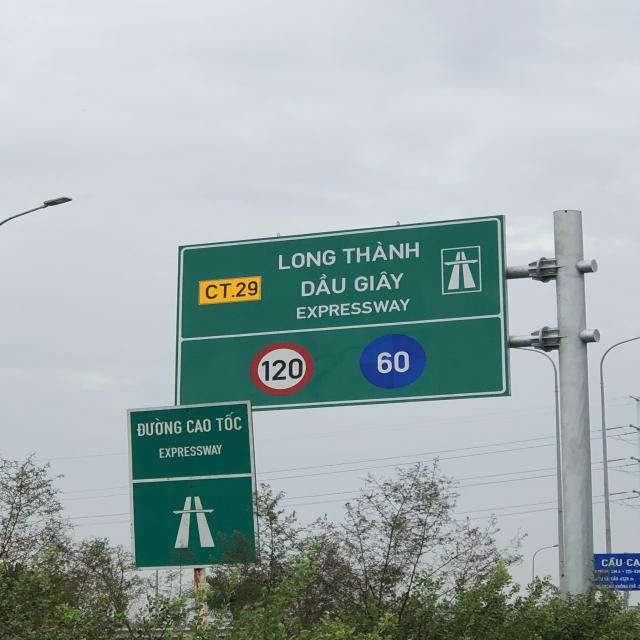Bien bao toc do toi thieu cho phep: (356, 331, 432, 390)
